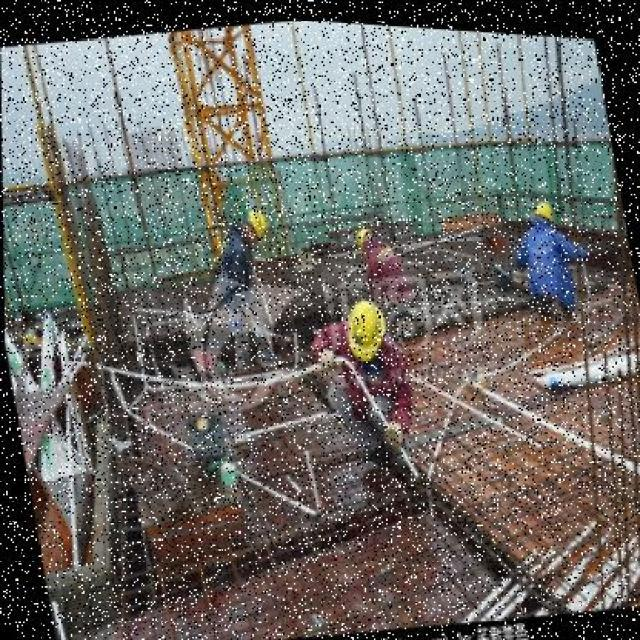helmet: (334, 285, 392, 362), (235, 197, 269, 243), (528, 186, 558, 220)
